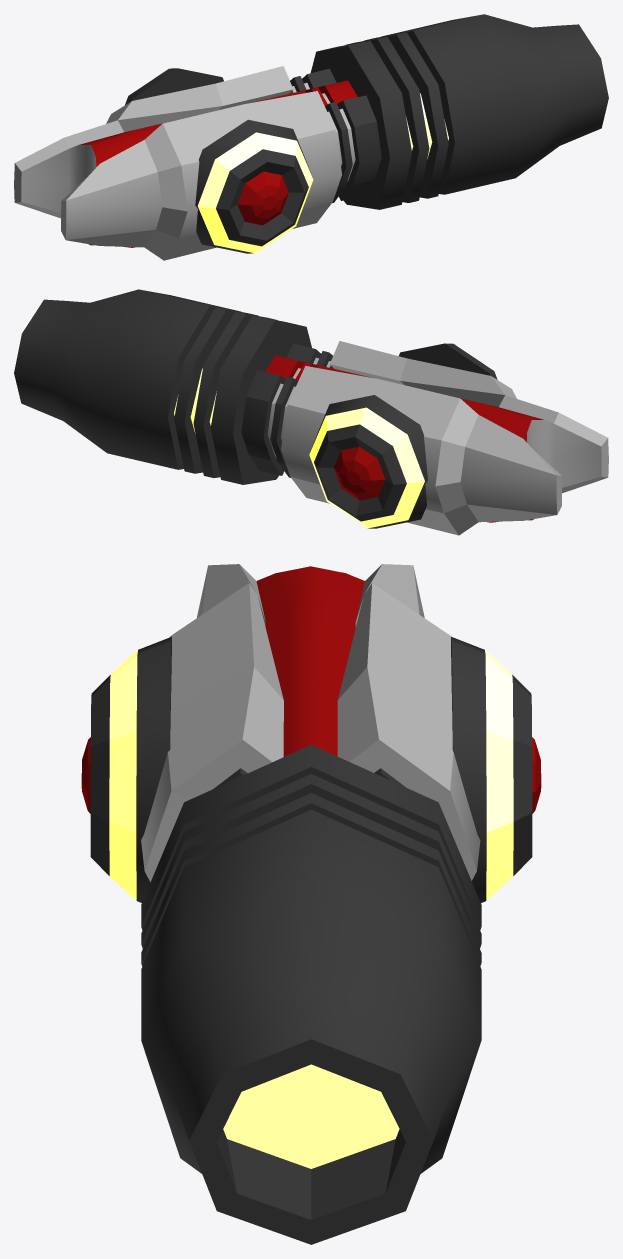
The model's file is metalhead_gun.glb.
3 renders of one model, top to bottom at view 1: azimuth 30°, elevation 25°; view 2: azimuth 150°, elevation 25°; view 3: azimuth 270°, elevation 25°, orthographic. The views are drawn at different scales.
Visible parts, largest first — view 1: Cylinder031, Box025, Cylinder033, Cylinder032; view 2: Cylinder031, Box025, Cylinder032, Cylinder033; view 3: Cylinder031, Box025, Cylinder032, Cylinder033.
Boxes of the visible parts, left/top/right/bottom form: Cylinder031: left=310, top=14, right=608, bottom=209; Box025: left=14, top=66, right=381, bottom=260; Cylinder033: left=195, top=119, right=313, bottom=253; Cylinder032: left=125, top=68, right=223, bottom=104; Cylinder031: left=14, top=289, right=311, bottom=484; Box025: left=241, top=341, right=608, bottom=535; Cylinder032: left=309, top=395, right=427, bottom=528; Cylinder033: left=399, top=343, right=497, bottom=379; Cylinder031: left=141, top=744, right=481, bottom=1244; Box025: left=141, top=564, right=480, bottom=882; Cylinder032: left=451, top=636, right=541, bottom=902; Cylinder033: left=81, top=636, right=171, bottom=902.
Size of the model in its own units: 0.7649 by 0.2169 by 0.2825.
